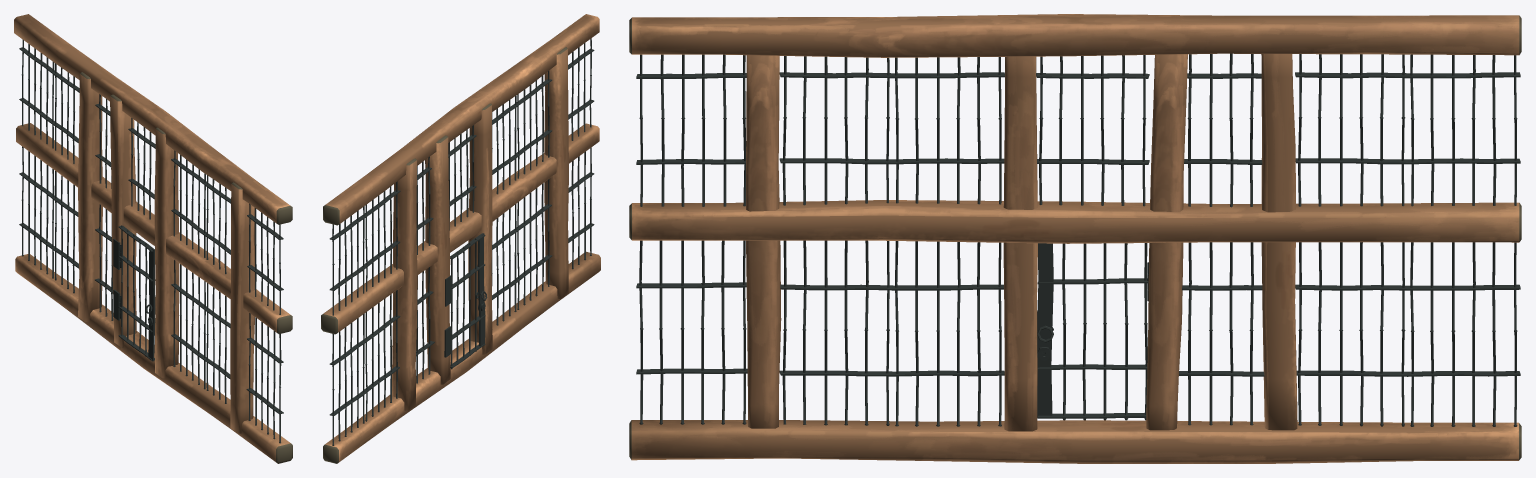
Rendered from wallJailDoor.fbx.
3 renders of one model, left to right at view 1: azimuth 30°, elevation 25°; view 2: azimuth 150°, elevation 25°; view 3: azimuth 270°, elevation 25°, orthographic. The views are drawn at different scales.
Parts seen in each view (by area): view 1: beamMedium9, polySurface117, pCylinder22; view 2: beamMedium9, polySurface117, pCylinder22; view 3: beamMedium9, polySurface117, pCylinder22.
Part boxes in pixels (x1=…): beamMedium9: x1=14, y1=14, x2=292, y2=463; polySurface117: x1=19, y1=39, x2=283, y2=443; pCylinder22: x1=118, y1=225, x2=155, y2=361; beamMedium9: x1=321, y1=14, x2=600, y2=463; polySurface117: x1=329, y1=38, x2=594, y2=445; pCylinder22: x1=450, y1=233, x2=487, y2=369; beamMedium9: x1=629, y1=14, x2=1521, y2=463; polySurface117: x1=636, y1=53, x2=1520, y2=426; pCylinder22: x1=1037, y1=243, x2=1148, y2=420.
Size of the model in its own units: 0.4636 by 4.44 by 8.17.
